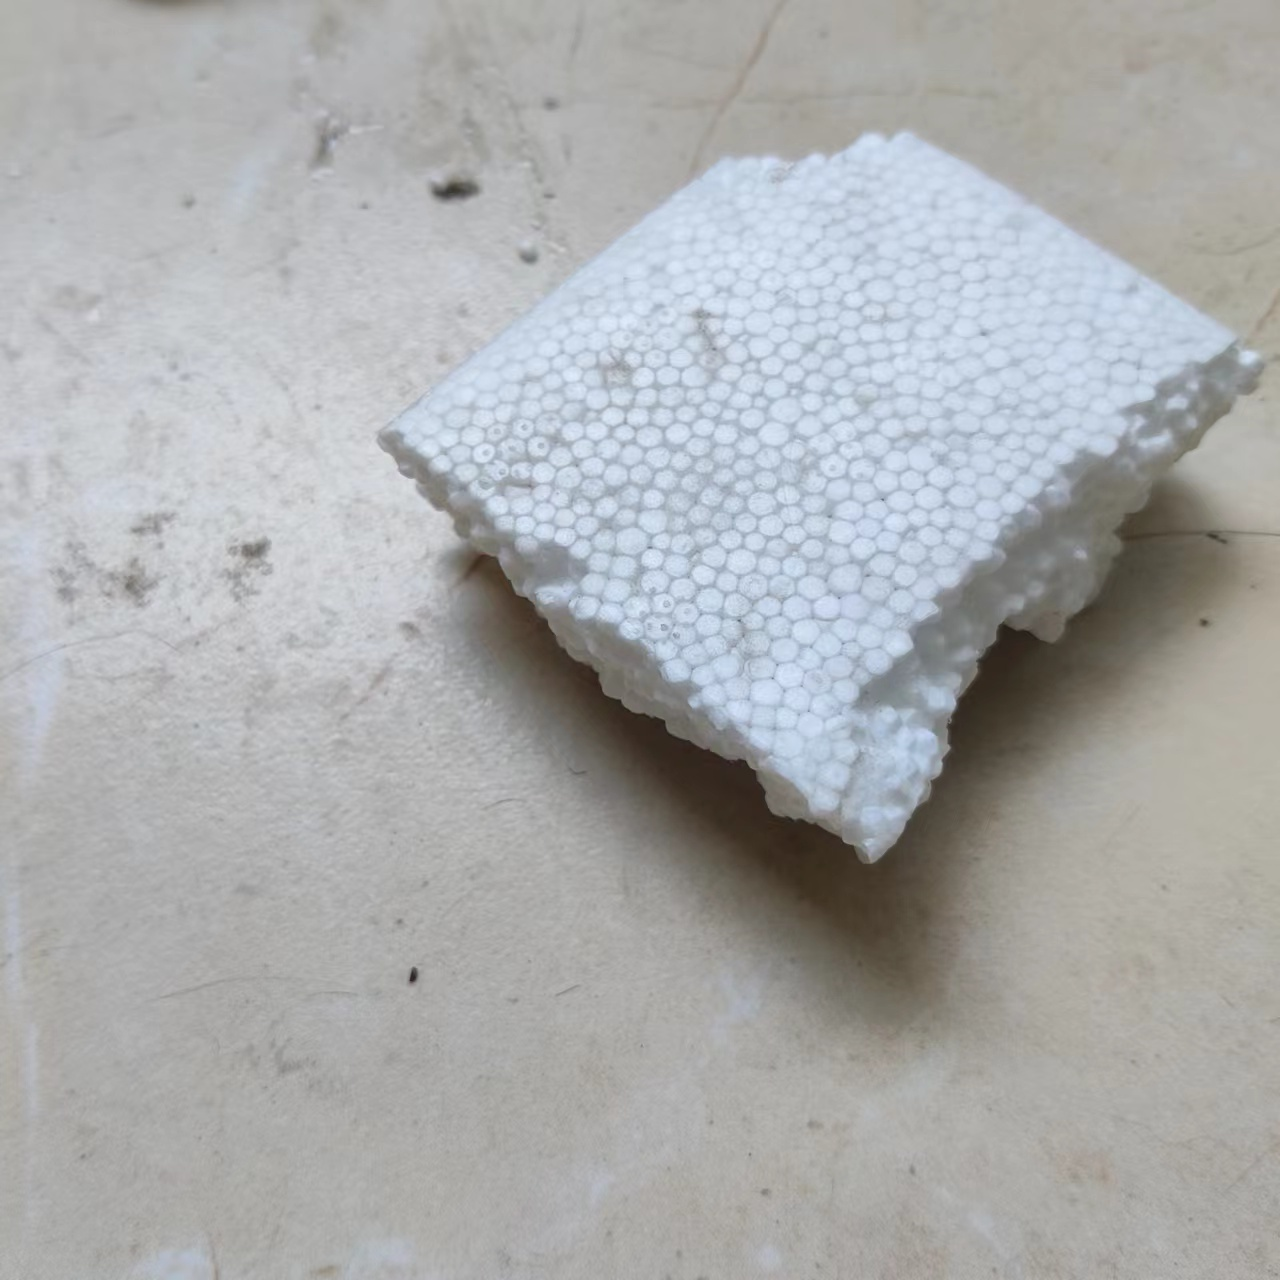5/可回收垃圾/泡沫: (377, 129, 1260, 863)
